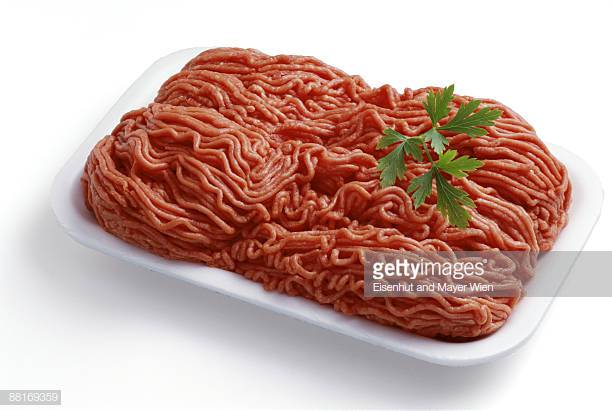ground_beef: (115, 42, 551, 362)
